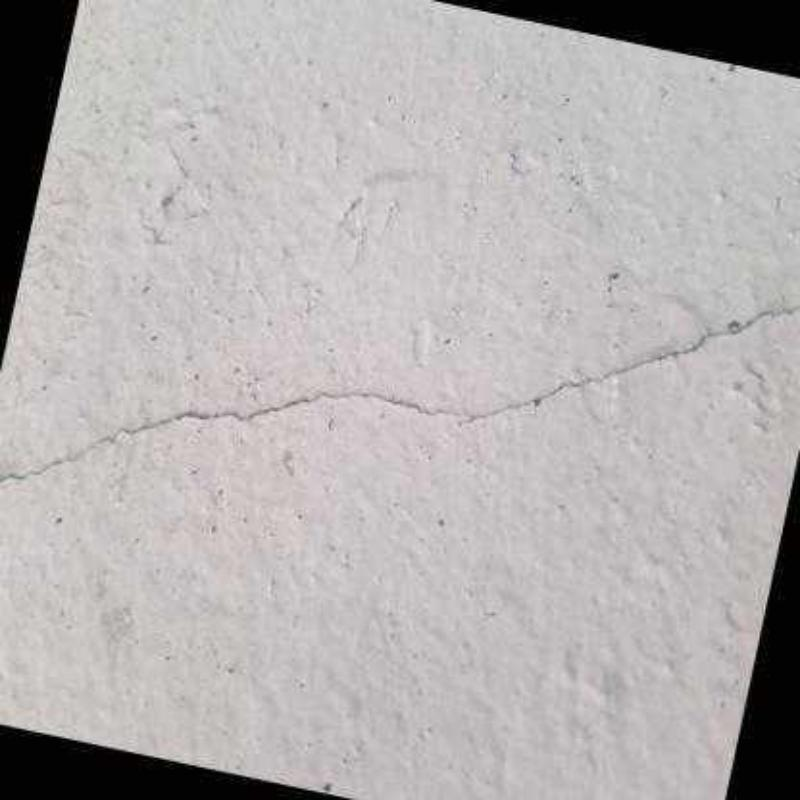pothole: (0, 297, 800, 489)
